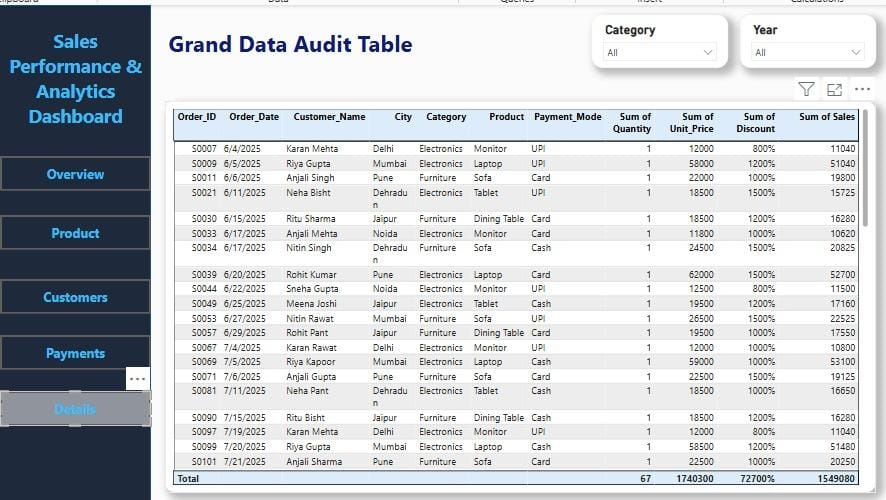

The page's visual inventory and layout, read from the dashboard file:
{"tool":"powerbi","page":{"name":"Details","canvas":[1280,720],"ordinal":4},"visuals":[{"type":"shape","box":[0,0,218.9,720],"z":0},{"type":"actionButton","box":[1.4,217.4,217.4,50.4],"z":1000},{"type":"actionButton","box":[1.4,302.4,217.4,50.4],"z":2000},{"type":"actionButton","box":[1.4,394.6,217.4,50.4],"z":3000},{"type":"actionButton","box":[1.4,475.2,217.4,50.4],"z":4000},{"type":"actionButton","box":[1.4,555.8,217.4,50.4],"z":5000},{"type":"textbox","box":[1.4,27.4,217.4,159.8],"z":6000},{"type":"textbox","box":[239,27.4,493.9,63.4],"z":7000},{"type":"slicer","fields":{"Values":["Sales_Data_Analysis_2025.Year"]},"box":[1067,14.4,195.8,76.3],"z":8000},{"type":"slicer","fields":{"Values":["Sales_Data_Analysis_2025.Category"]},"box":[853.9,14.4,195.8,76.3],"z":9000},{"type":"tableEx","title":"Top 5 Products by Total Revenue","fields":{"Values":["Sales_Data_Analysis_2025.Order_ID","Sales_Data_Analysis_2025.Order_Date","Sales_Data_Analysis_2025.Customer_Name","Sales_Data_Analysis_2025.City","Sales_Data_Analysis_2025.Category","Sales_Data_Analysis_2025.Product","Sales_Data_Analysis_2025.Payment_Mode","Sum(Sales_Data_Analysis_2025.Quantity)","Sum(Sales_Data_Analysis_2025.Unit_Price)","Sum(Sales_Data_Analysis_2025.Discount)","Sum(Sales_Data_Analysis_2025.Sales)"]},"box":[239,138.2,1023.8,564.5],"z":14000}]}

Visuals, with their boxes on the page's 1280x720 design canvas (x1, y1, x2, y2). These are canvas units, not pixel positions in the 886x500 screenshot, which may show the page scaled, cropped or inside an application window:
shape: (0, 0, 219, 720)
actionButton: (1, 217, 219, 268)
actionButton: (1, 302, 219, 353)
actionButton: (1, 395, 219, 445)
actionButton: (1, 475, 219, 526)
actionButton: (1, 556, 219, 606)
textbox: (1, 27, 219, 187)
textbox: (239, 27, 733, 91)
slicer - Sales_Data_Analysis_2025.Year: (1067, 14, 1263, 91)
slicer - Sales_Data_Analysis_2025.Category: (854, 14, 1050, 91)
"Top 5 Products by Total Revenue" tableEx: (239, 138, 1263, 703)
